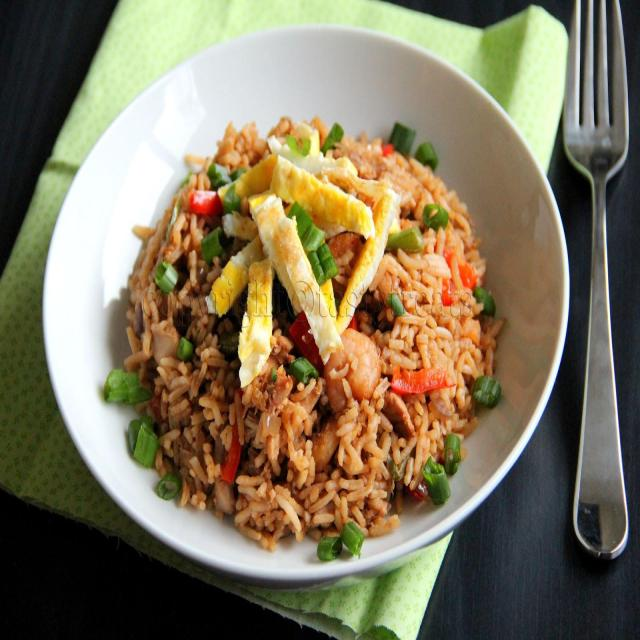Nasi Goreng: (104, 114, 506, 558)
